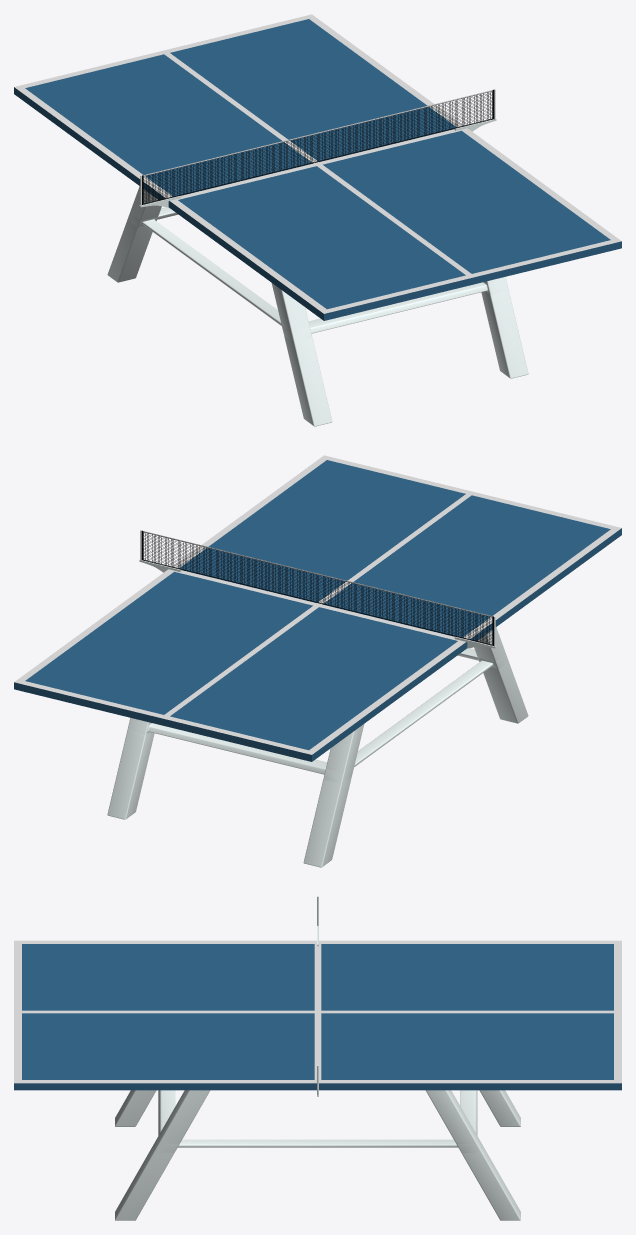
Rendered from pong_table.glb.
3 renders of one model, top to bottom at view 1: azimuth 30°, elevation 25°; view 2: azimuth 150°, elevation 25°; view 3: azimuth 270°, elevation 25°, orthographic.
Parts seen in each view (by area): view 1: Table_0, Legs_5, Net_3, NetBorder_4; view 2: Table_0, Legs_5, Net_3, NetBorder_4; view 3: Table_0, Legs_5.
Part boxes in pixels (box(x1,y1,x2,y2)): Table_0: box(14, 14, 621, 320); Legs_5: box(107, 186, 528, 426); Net_3: box(144, 91, 491, 203); NetBorder_4: box(142, 89, 494, 204); Table_0: box(14, 455, 621, 761); Legs_5: box(107, 627, 528, 867); Net_3: box(144, 532, 491, 644); NetBorder_4: box(141, 530, 493, 645); Table_0: box(14, 940, 621, 1090); Legs_5: box(115, 1090, 520, 1220).
Bounding box in the file's own units: 3.63 × 1.88 × 5.48.
